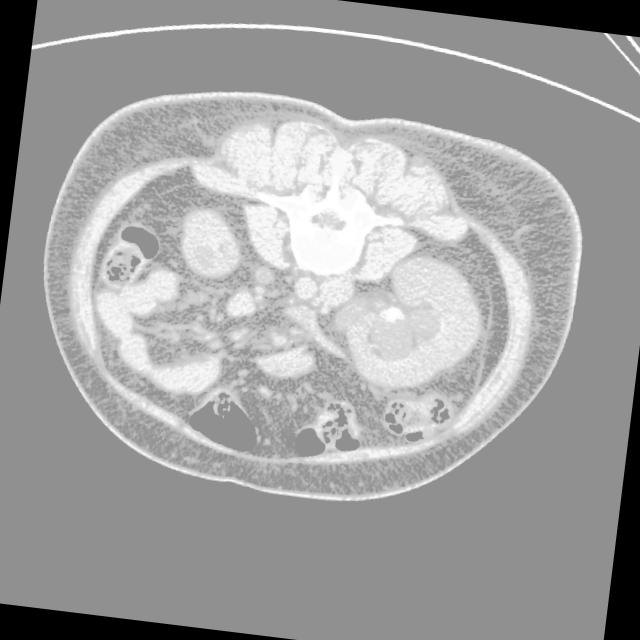STONE: (30, 213, 527, 540)
